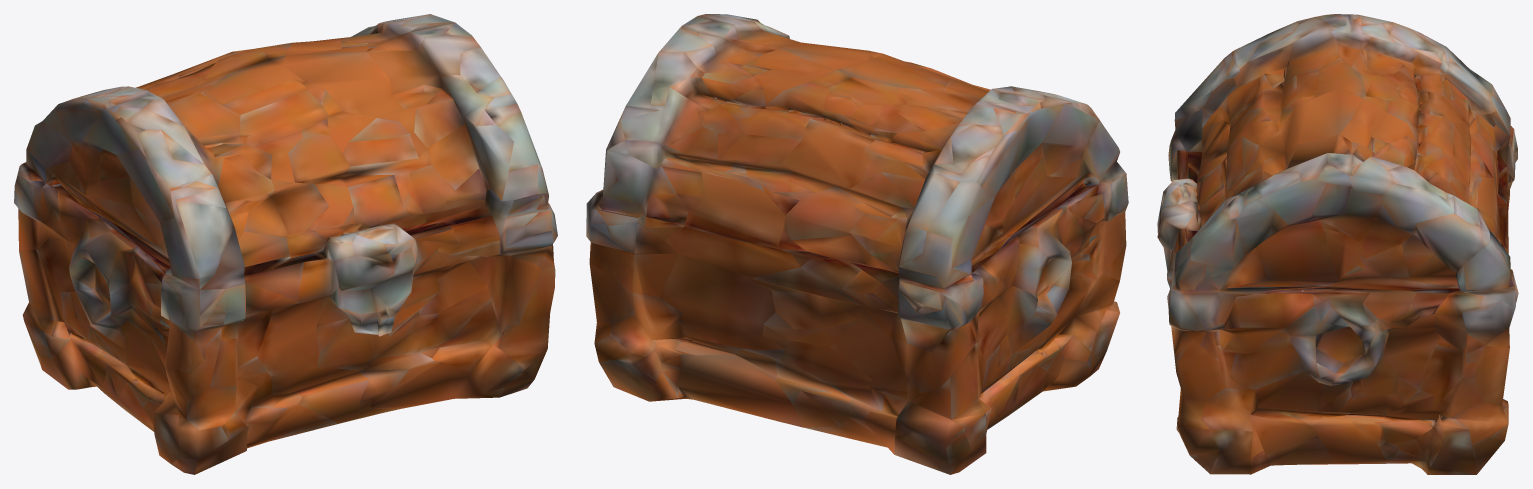
Rendered from chest.glb.
3 renders of one model, left to right at view 1: azimuth 30°, elevation 25°; view 2: azimuth 150°, elevation 25°; view 3: azimuth 270°, elevation 25°, orthographic. The views are drawn at different scales.
Size of the model in its own units: 1.9 by 1.46 by 1.57.
Materials: 1 (1 with a texture image).
